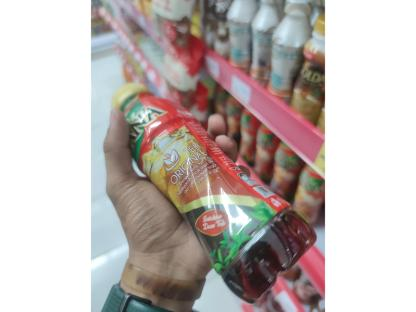Plastic Bottle: (92, 66, 328, 312)
